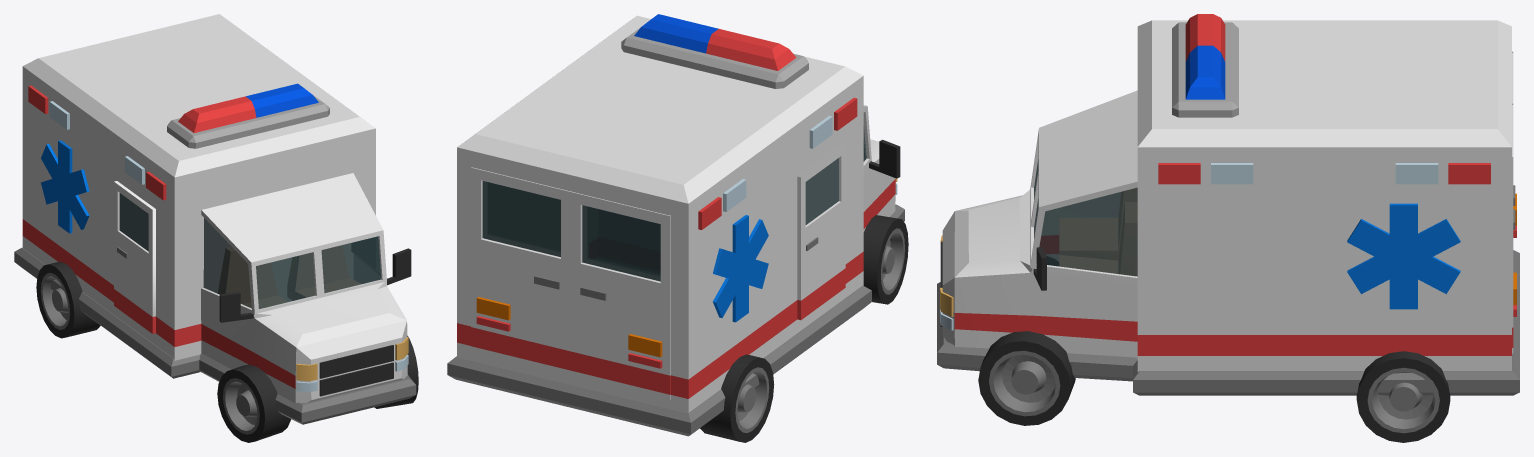
The model's file is Ambulance.fbx.
3 renders of one model, left to right at view 1: azimuth 30°, elevation 25°; view 2: azimuth 150°, elevation 25°; view 3: azimuth 270°, elevation 25°, orthographic. The views are drawn at different scales.
Visible parts, largest first — view 1: Ambulance_Chassis, Ambulance_Siren, Ambulance_Wheel_RightFront, Ambulance_Wheel_RightBack, Ambulance_Wheel_LeftFront; view 2: Ambulance_Chassis, Ambulance_DoorRight, Ambulance_DoorLeft, Ambulance_Siren, Ambulance_Wheel_RightBack, Ambulance_Wheel_RightFront, Ambulance_LightRed3, Ambulance_LightBlue3, Ambulance_LightBlue2, Ambulance_LightRed2; view 3: Ambulance_Chassis, Ambulance_Wheel_LeftFront, Ambulance_Siren, Ambulance_Wheel_LeftBack, Ambulance_LightBlue1, Ambulance_LightRed1, Ambulance_LightRed, Ambulance_LightBlue, Ambulance_DoorLeft.
Boxes of the visible parts, x1,y1,x2,y2 form: Ambulance_Chassis: (14,14,416,424); Ambulance_Siren: (167,83,329,148); Ambulance_Wheel_RightFront: (217,364,291,442); Ambulance_Wheel_RightBack: (36,261,100,338); Ambulance_Wheel_LeftFront: (374,335,418,408); Ambulance_Chassis: (447,15,904,436); Ambulance_DoorRight: (570,191,670,399); Ambulance_DoorLeft: (471,167,571,375); Ambulance_Siren: (621,14,808,88); Ambulance_Wheel_RightBack: (700,354,774,442); Ambulance_Wheel_RightFront: (863,215,908,304); Ambulance_LightRed3: (834,97,857,130); Ambulance_LightBlue3: (809,115,832,148); Ambulance_LightBlue2: (723,179,746,211); Ambulance_LightRed2: (698,197,721,229); Ambulance_Chassis: (937,20,1519,395); Ambulance_Wheel_LeftFront: (978,331,1075,425); Ambulance_Siren: (1172,14,1238,117); Ambulance_Wheel_LeftBack: (1356,351,1450,442); Ambulance_LightBlue1: (1395,163,1438,184); Ambulance_LightRed1: (1448,163,1490,184); Ambulance_LightRed: (1158,163,1200,184); Ambulance_LightBlue: (1211,163,1253,184); Ambulance_DoorLeft: (1512,103,1516,353).
Bounding box in the file's own units: 26.12 × 29.91 × 47.79.
